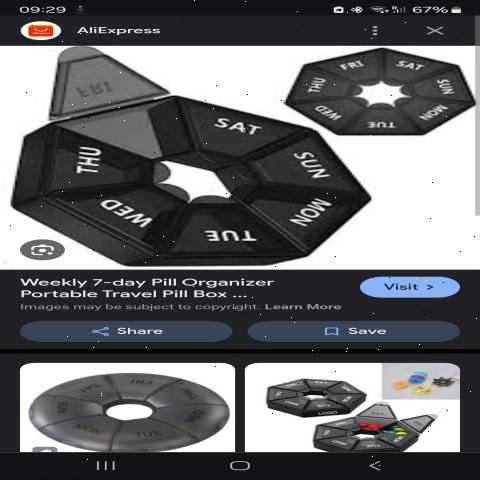Pill: (11, 44, 366, 268), (260, 40, 480, 135)
